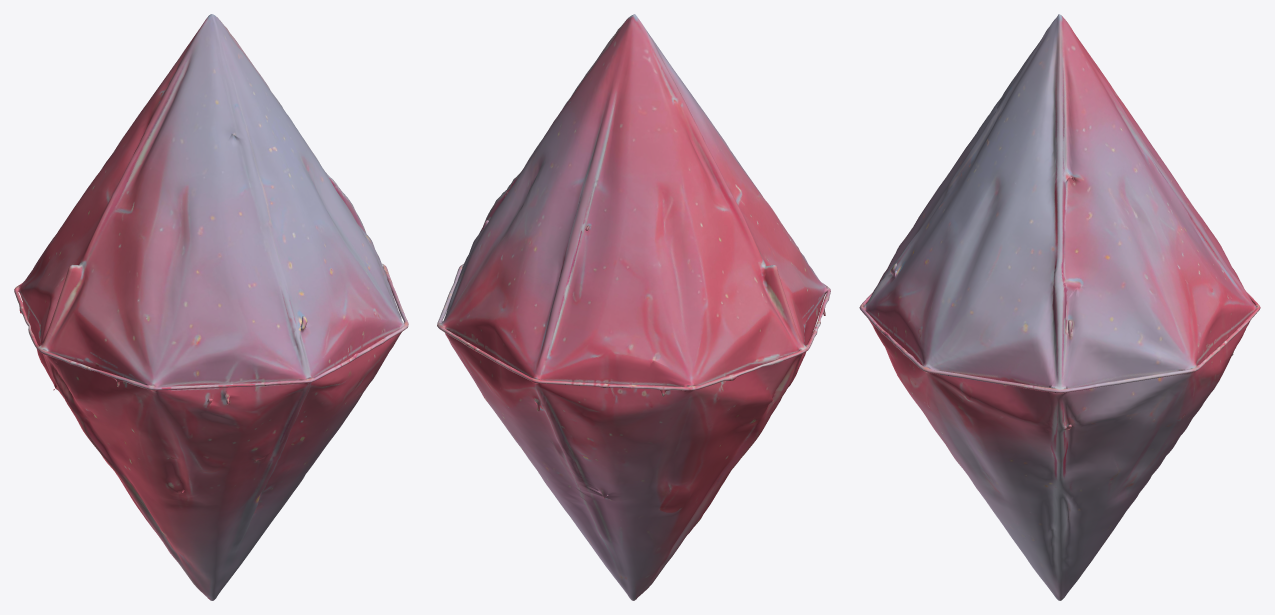
Rendered from mirrorPiece.fbx.
3 renders of one model, left to right at view 1: azimuth 30°, elevation 25°; view 2: azimuth 150°, elevation 25°; view 3: azimuth 270°, elevation 25°, orthographic.
Parts seen in each view (by area): view 1: tripo_node_71e52fe7; view 2: tripo_node_71e52fe7; view 3: tripo_node_71e52fe7.
Part boxes in pixels (box(x1,y1,x2,y2)): tripo_node_71e52fe7: box(14, 14, 408, 600); tripo_node_71e52fe7: box(437, 14, 830, 600); tripo_node_71e52fe7: box(859, 14, 1260, 600).
Size of the model in its own units: 61.35 by 99.53 by 61.74.
1 material, 1 textured.
